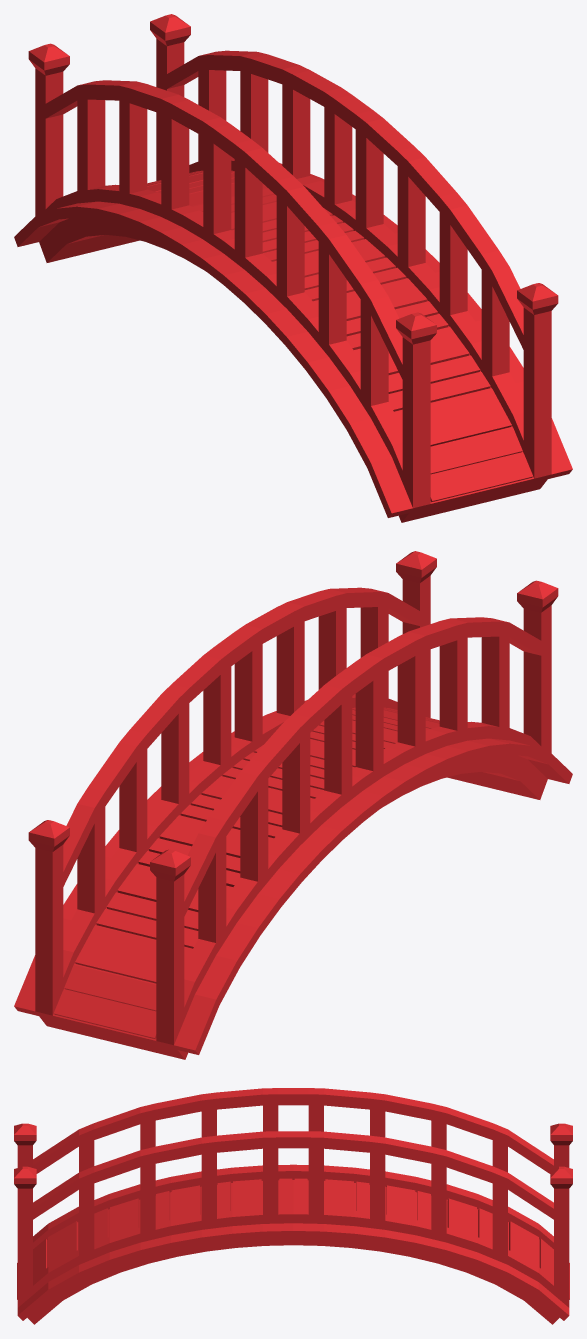
Rendered from zen_garden_bridge.glb.
3 renders of one model, top to bottom at view 1: azimuth 30°, elevation 25°; view 2: azimuth 150°, elevation 25°; view 3: azimuth 270°, elevation 25°, orthographic. The views are drawn at different scales.
Visible parts, largest first — view 1: Zen_Bridge; view 2: Zen_Bridge; view 3: Zen_Bridge.
Part boxes in pixels (box(x1,y1,x2,y2)): Zen_Bridge: box(14, 14, 572, 522); Zen_Bridge: box(14, 551, 572, 1059); Zen_Bridge: box(14, 1088, 572, 1324).
Size of the model in its own units: 3.34 by 4.52 by 12.22.
